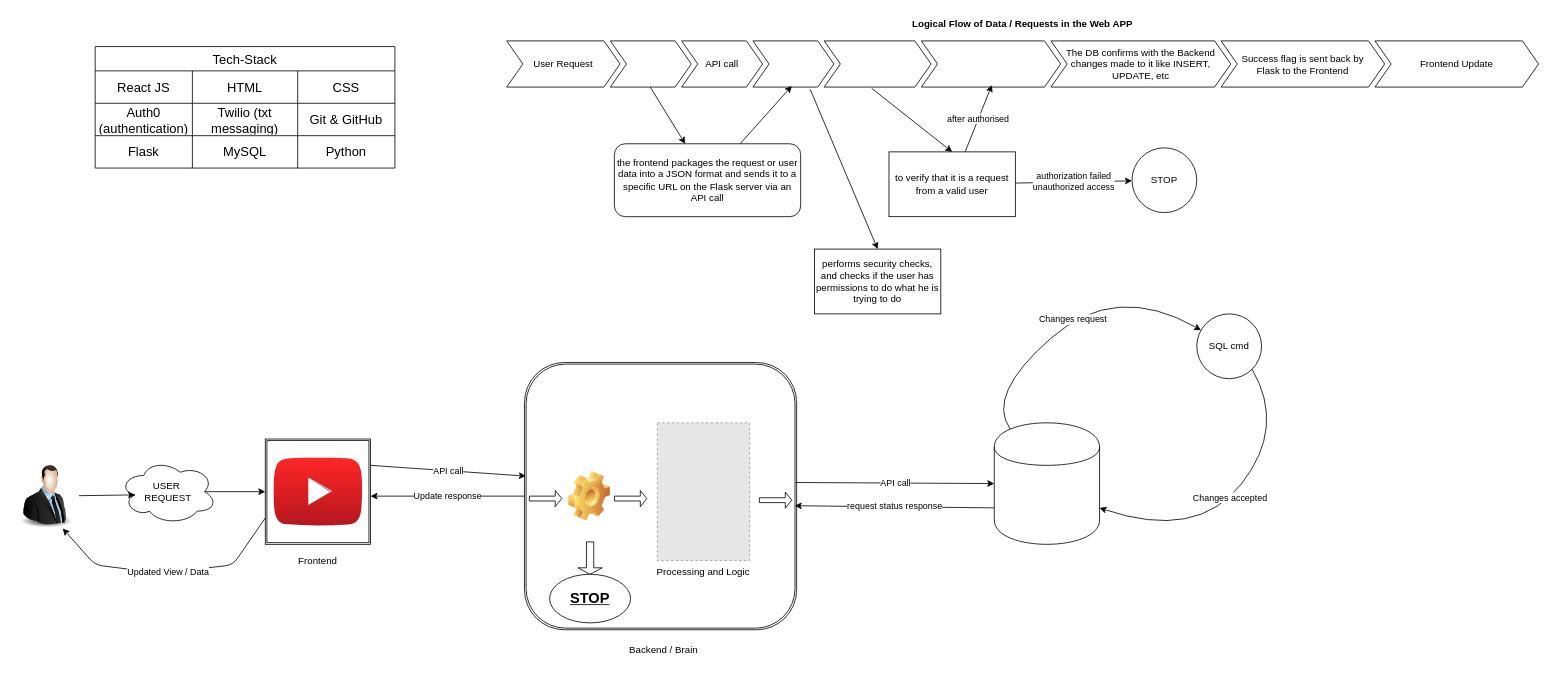
The diagram is 1560 pixels wide and 676 high, and some of its shapes have lost their labels. Grey dashed boxes stand in for pictures. The centre of each missing label's shape, as x and y in pixels:
Auth0: (589,495)
Authentication Auth0: (877,63)
Database: (1046,483)
Database "Memory": (991,63)
Frontend UI "Face": (650,63)
Server (Backend) "Brain": (793,63)
